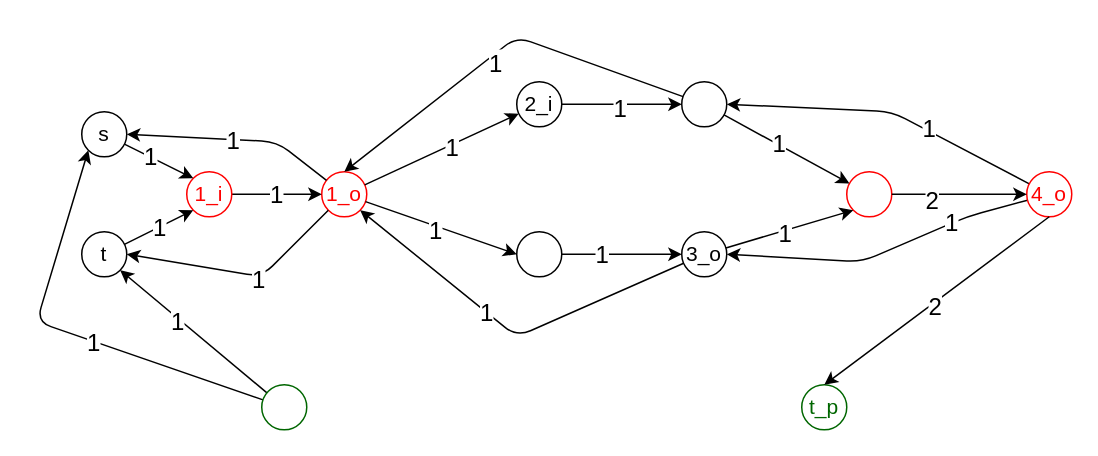
The diagram is 1098 pixels wide and 456 high, and some of its shapes have lost their labels. The centre of each missing label's shape, as x and y in pixels:
2_o: the point at 703,103
3_i: the point at 538,253
4_i: the point at 868,193
s_p: the point at 283,406
